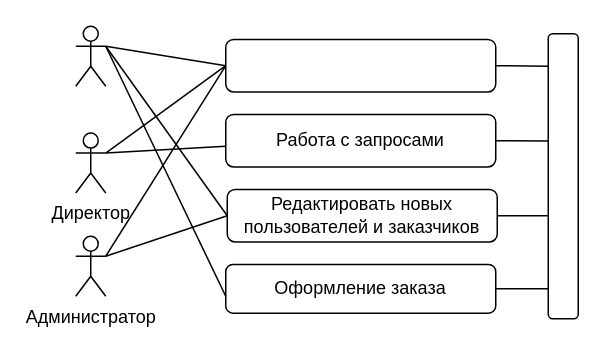
Some shapes in this 605 by 354 pixel diagram are drawn without their labels. The centre of each missing label's shape, as x and y in pixels:
Авторизация: [360,65]
Информационная система: [562,175]
Работник: [90,55]
